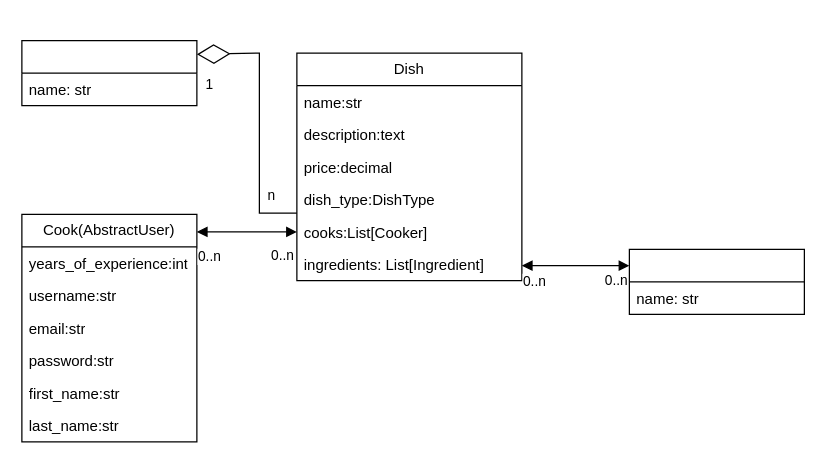
Some shapes in this 826 by 468 pixel diagram are drawn without their labels. The box of each missing label's shape, as (x1, y1, x2, y2) in pixels:
DishType: (21, 39, 197, 106)
Ingredient: (628, 248, 804, 314)
